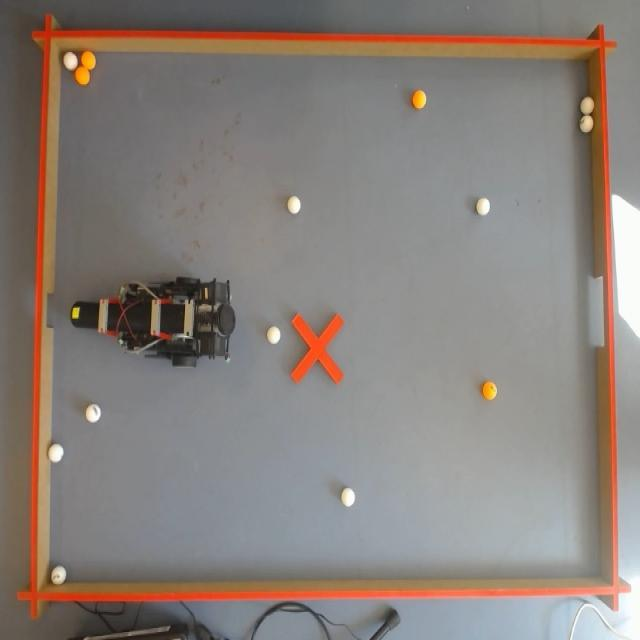orange: (480, 380, 498, 398), (80, 50, 96, 70), (412, 91, 428, 109), (76, 64, 88, 84)
robot: (76, 278, 238, 362)
white: (52, 567, 68, 588), (266, 325, 280, 346), (340, 488, 354, 509), (476, 197, 490, 217), (86, 404, 100, 424), (48, 444, 62, 463), (580, 116, 594, 135), (289, 196, 302, 215), (581, 96, 594, 115), (63, 53, 76, 70)
